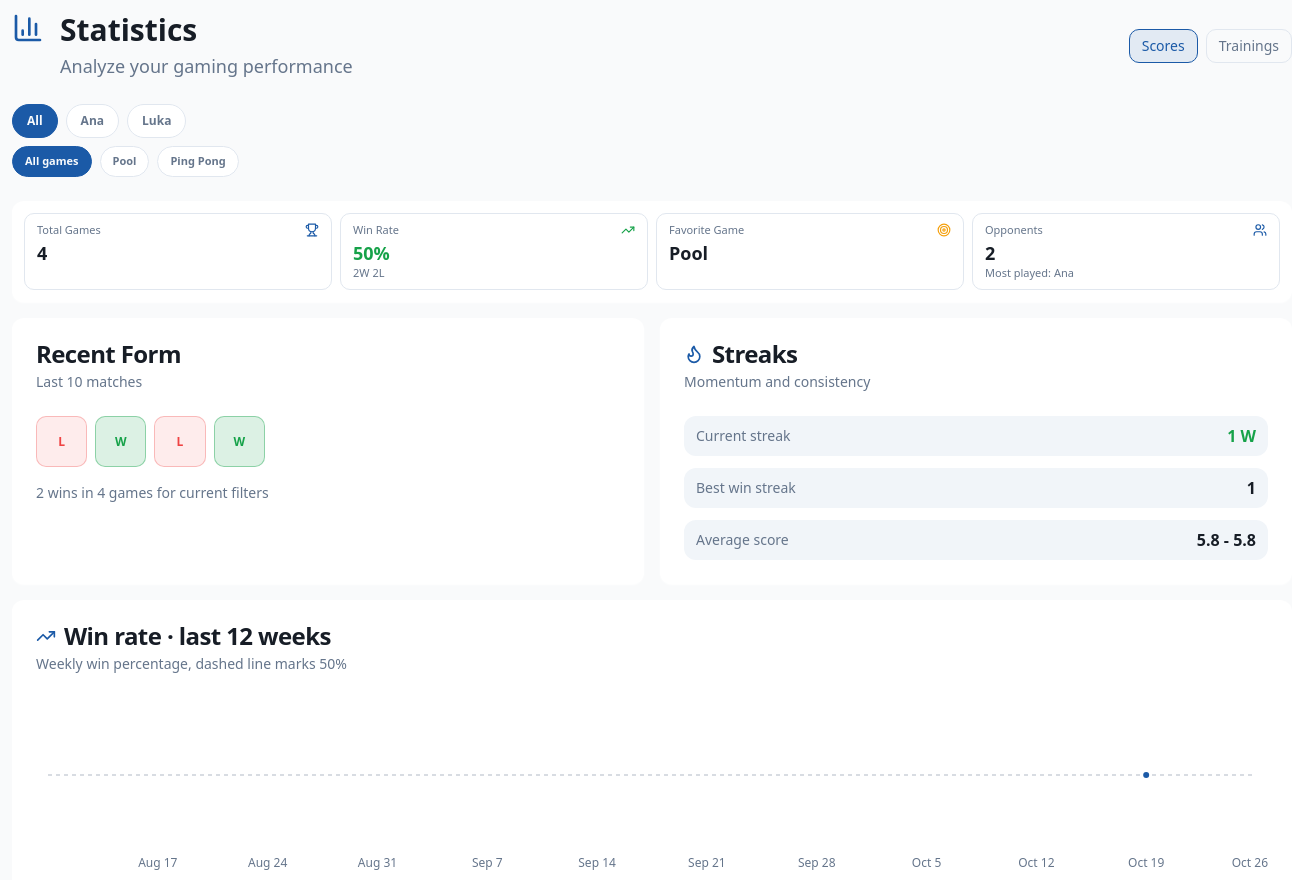
Scenario: StatisticsPage › leads with a head-to-head card when an opponent chip is selected
The width and height of the screenshot is (1292, 880).
expect the heading "Recent Form" is shown: met, box [36,337,181,370]
Click the button "Ana".
click(92, 121)  # box [66,104,119,138]
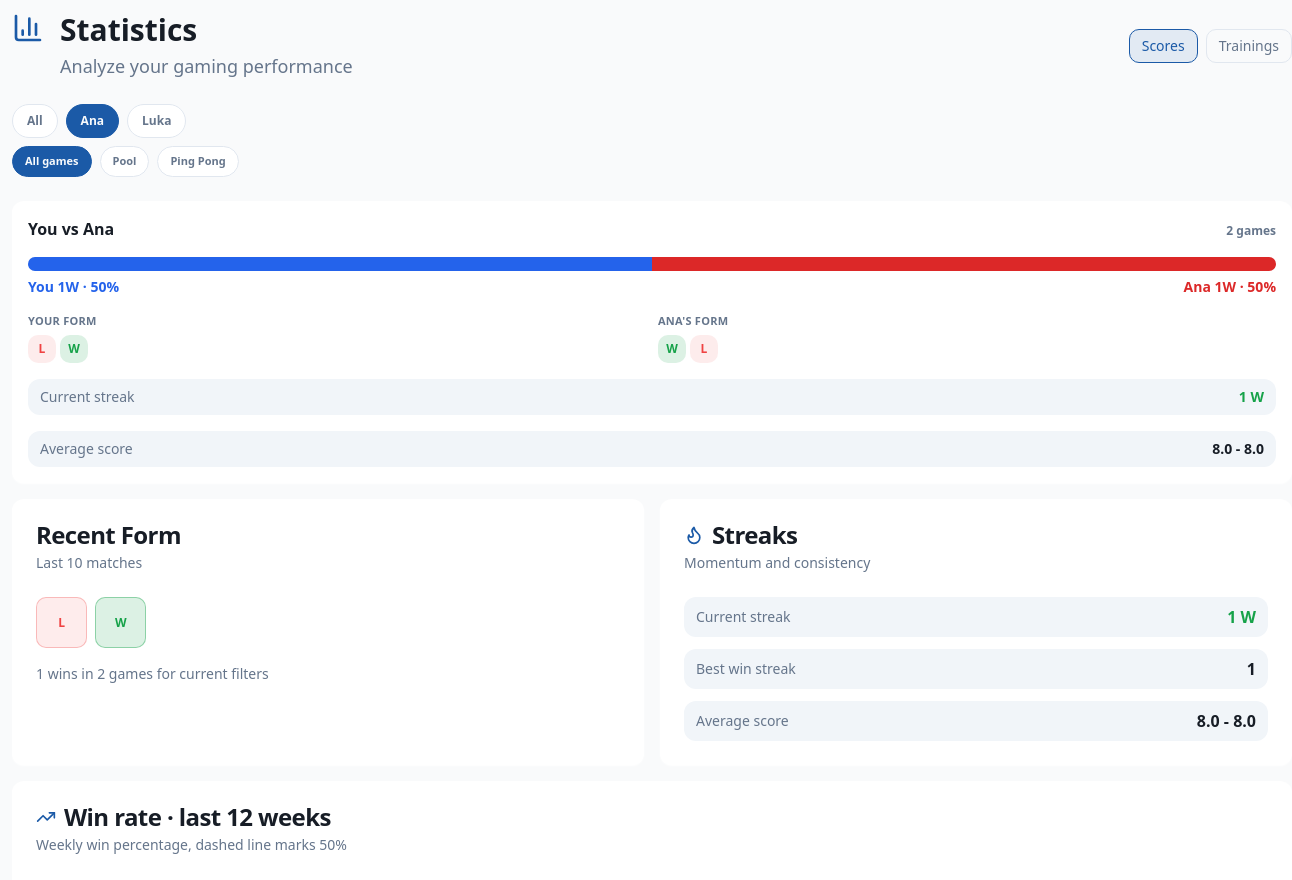
expect the heading "You vs Ana" is shown: met, box [28,216,114,240]
expect the text "Your form" is shown: met, box [28,312,97,328]
expect the text "Ana's form" is shown: met, box [658,312,728,328]
// Tapping the active chip deselects and restores the record grid.
Click the button "Ana".
click(92, 121)  # box [66,104,119,138]
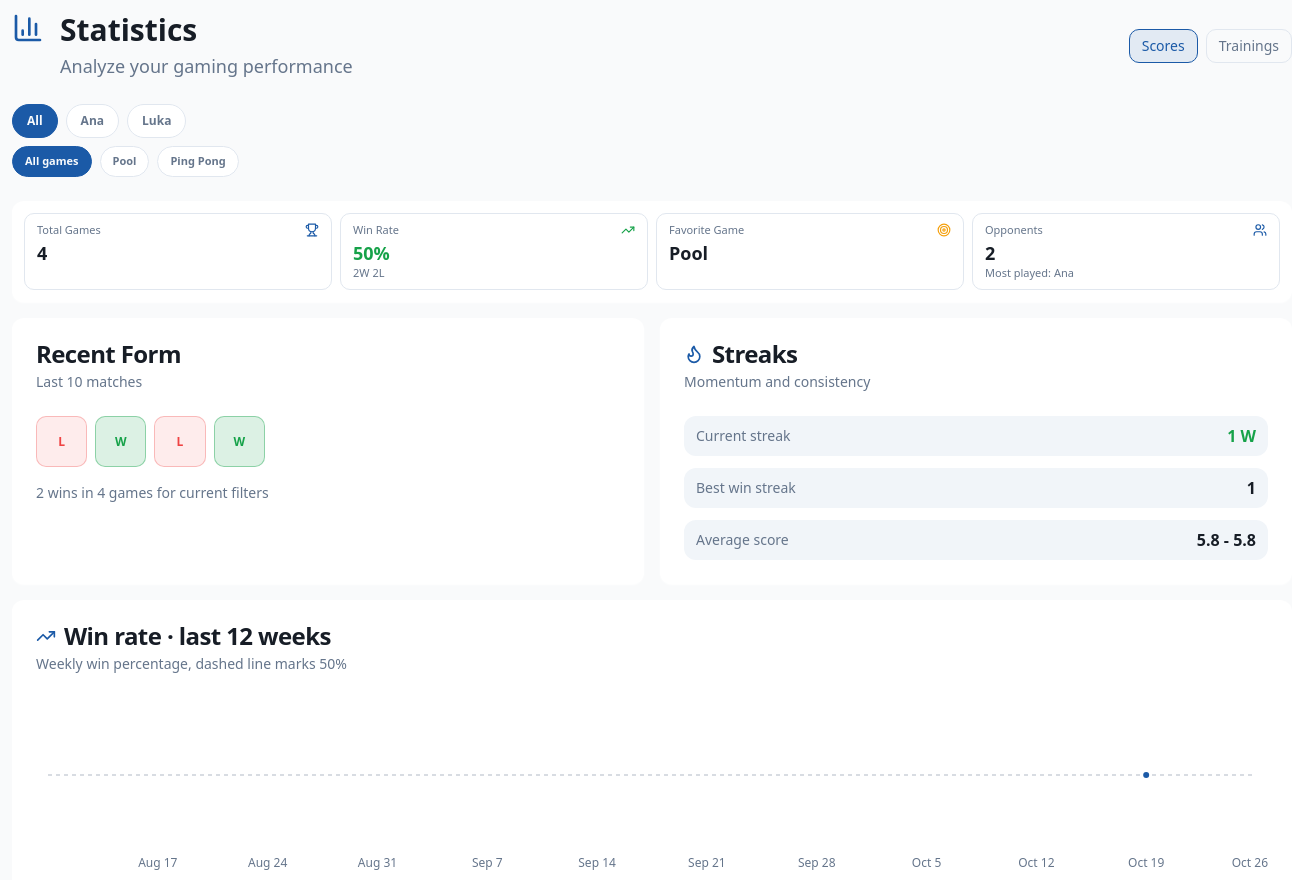
expect the text "Total Games" is shown: met, box [37,222,101,238]
